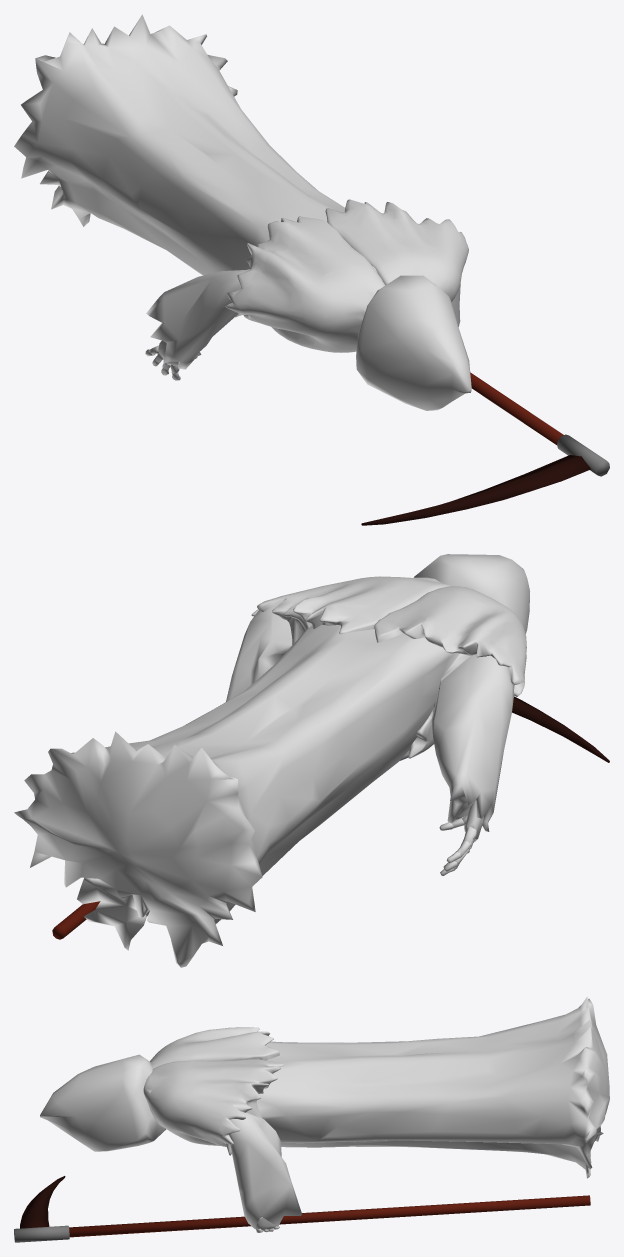
Rendered from grim.fbx.
The picture shows the model from 3 angles, top to bottom: view 1: azimuth 30°, elevation 25°; view 2: azimuth 150°, elevation 25°; view 3: azimuth 270°, elevation 25°; orthographic projection. The views are drawn at different scales.
Visible parts, largest first — view 1: grim, orak; view 2: grim, orak; view 3: grim, orak.
Boxes of the visible parts, box(x1,y1,x2,y2) form: grim: box(14, 14, 471, 410); orak: box(361, 372, 609, 525); grim: box(14, 554, 529, 967); orak: box(52, 696, 609, 939); grim: box(40, 996, 609, 1232); orak: box(14, 1176, 590, 1242).
Bounding box in the file's own units: 107 × 94.6 × 261.
